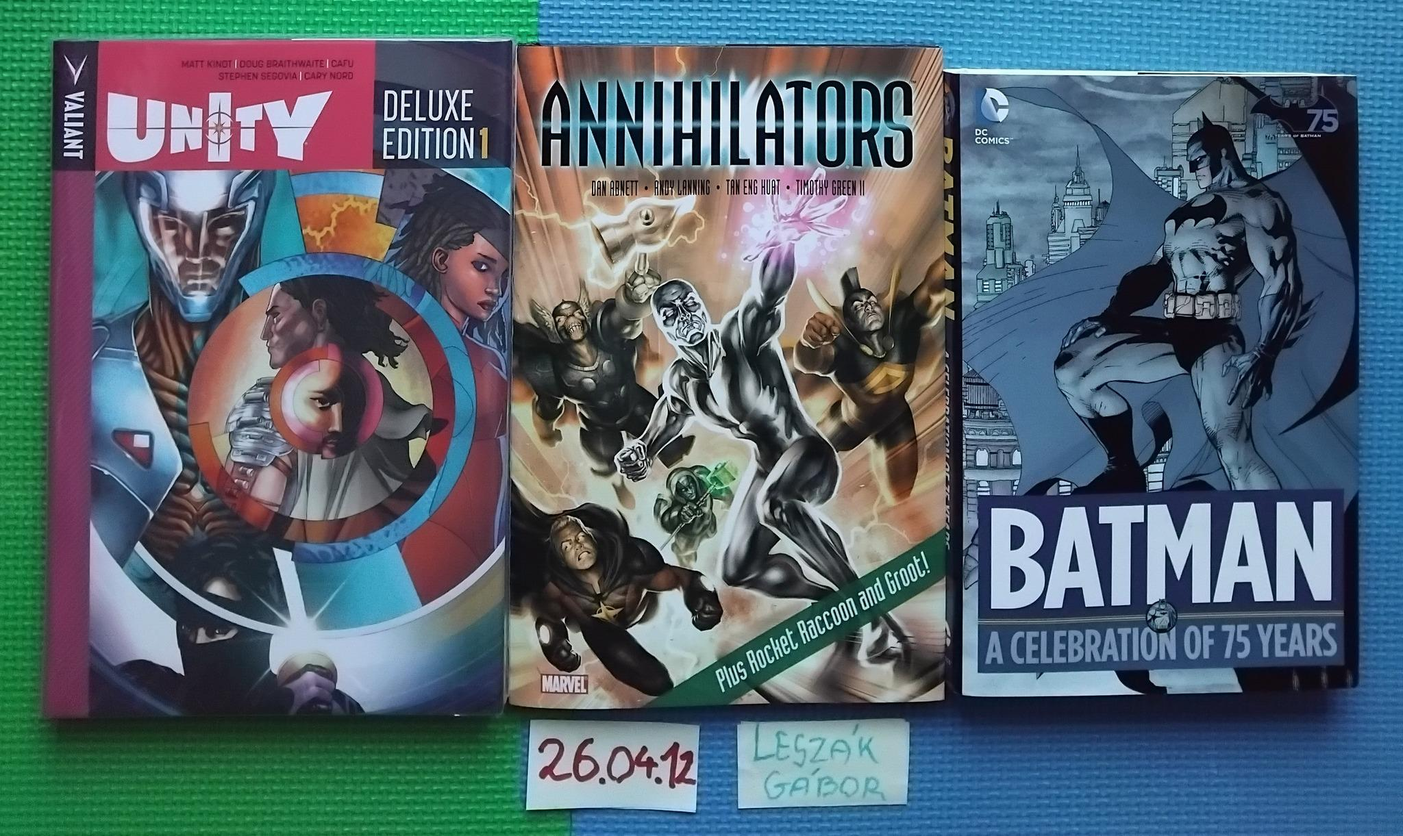comic: (44, 34, 515, 722), (509, 43, 955, 711), (951, 72, 1359, 695)
